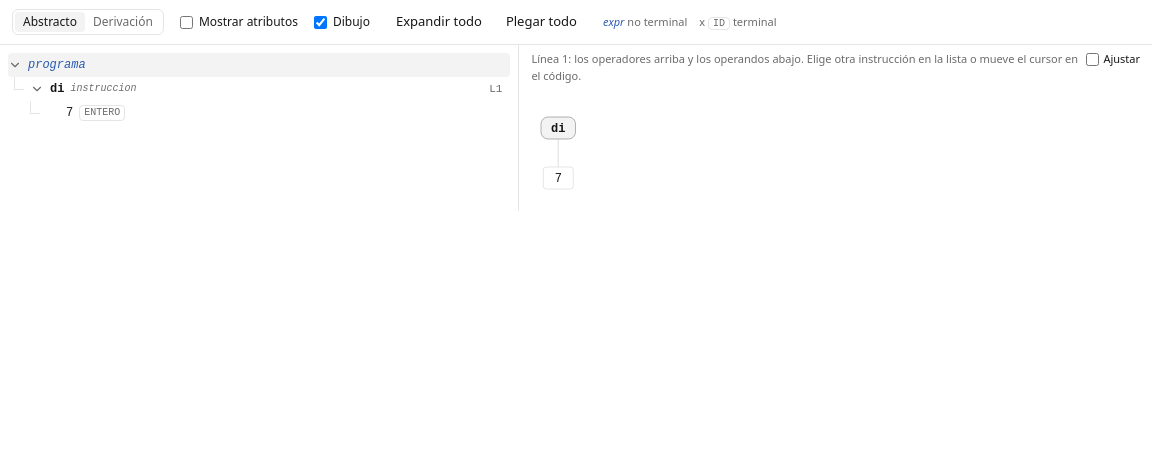
pestaña Árbol (A3, A4) › derivación: los no terminales de la gramática, y se recuerda la elección
Click the button "Derivación" at point(123, 22), box [85, 12, 161, 32]
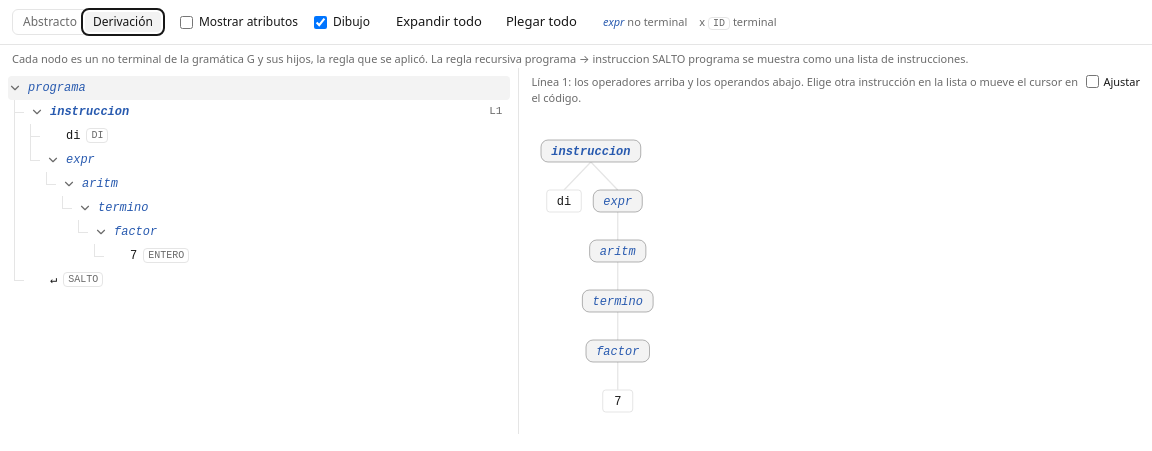
Now the text "se muestra como una lista de instrucciones" is shown, box [12, 51, 968, 66]
